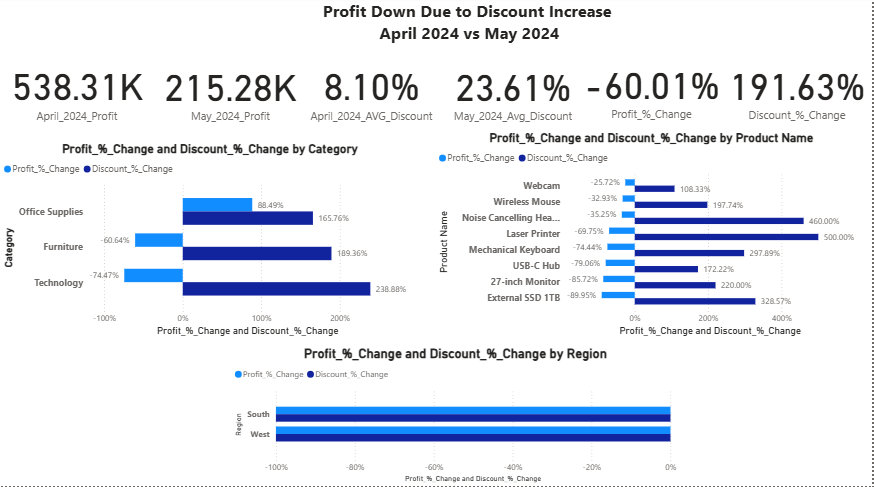

The dashboard page shown, as its layout file describes it:
{"tool":"powerbi","page":{"name":"Profit Analysis -Discount Increase ","canvas":[1280,720],"ordinal":6},"visuals":[{"type":"card","fields":{"Values":["Retail_Sales_Analysis_Dataset.April_2024_Profit"]},"box":[0,77.9,226.3,119],"z":0},{"type":"card","fields":{"Values":["Retail_Sales_Analysis_Dataset.May_2024_Profit"]},"box":[226.3,79.3,224.8,117.6],"z":1000},{"type":"card","fields":{"Values":["Retail_Sales_Analysis_Dataset.April_2024_AVG_Discount"]},"box":[439.3,77.9,213.1,119],"z":2000},{"type":"card","fields":{"Values":["Retail_Sales_Analysis_Dataset.May_2024_Avg_Discount"]},"box":[640.7,82.3,226.3,111.7],"z":3000},{"type":"card","fields":{"Values":["Retail_Sales_Analysis_Dataset.Profit_%_Change"]},"box":[852.2,79.3,210.1,111.7],"z":4000},{"type":"card","fields":{"Values":["Retail_Sales_Analysis_Dataset.Discount_%_Change"]},"box":[1062.4,79.3,217.5,114.6],"z":5000},{"type":"clusteredBarChart","fields":{"Category":["Retail_Sales_Analysis_Dataset.Category"],"Y":["Retail_Sales_Analysis_Dataset.Profit_%_Change","Retail_Sales_Analysis_Dataset.Discount_%_Change"]},"box":[0,213.1,617.1,292.4],"z":6000},{"type":"clusteredBarChart","fields":{"Category":["Retail_Sales_Analysis_Dataset.Product Name"],"Y":["Retail_Sales_Analysis_Dataset.Profit_%_Change","Retail_Sales_Analysis_Dataset.Discount_%_Change"]},"box":[639.2,196.9,636.2,308.6],"z":7000},{"type":"textbox","box":[99.9,0,1179.9,94],"z":8000},{"type":"clusteredBarChart","fields":{"Category":["Retail_Sales_Analysis_Dataset.Region"],"Y":["Retail_Sales_Analysis_Dataset.Profit_%_Change","Retail_Sales_Analysis_Dataset.Discount_%_Change"]},"box":[339.4,514.3,659.8,205.7],"z":8001}]}

Visuals, with their boxes in screenshot pixels (x1, y1, x2, y2), scaled from the page's 1280x720 canvas onto the 874x487 screenshot:
card - Retail_Sales_Analysis_Dataset.April_2024_Profit: x1=0, y1=53, x2=155, y2=133
card - Retail_Sales_Analysis_Dataset.May_2024_Profit: x1=155, y1=54, x2=308, y2=133
card - Retail_Sales_Analysis_Dataset.April_2024_AVG_Discount: x1=300, y1=53, x2=445, y2=133
card - Retail_Sales_Analysis_Dataset.May_2024_Avg_Discount: x1=437, y1=56, x2=592, y2=131
card - Retail_Sales_Analysis_Dataset.Profit_%_Change: x1=582, y1=54, x2=725, y2=129
card - Retail_Sales_Analysis_Dataset.Discount_%_Change: x1=725, y1=54, x2=873, y2=131
clusteredBarChart - Retail_Sales_Analysis_Dataset.Category x Retail_Sales_Analysis_Dataset.Profit_%_Change: x1=0, y1=144, x2=421, y2=342
clusteredBarChart - Retail_Sales_Analysis_Dataset.Product Name x Retail_Sales_Analysis_Dataset.Profit_%_Change: x1=436, y1=133, x2=871, y2=342
textbox: x1=68, y1=0, x2=873, y2=64
clusteredBarChart - Retail_Sales_Analysis_Dataset.Region x Retail_Sales_Analysis_Dataset.Profit_%_Change: x1=232, y1=348, x2=682, y2=486
